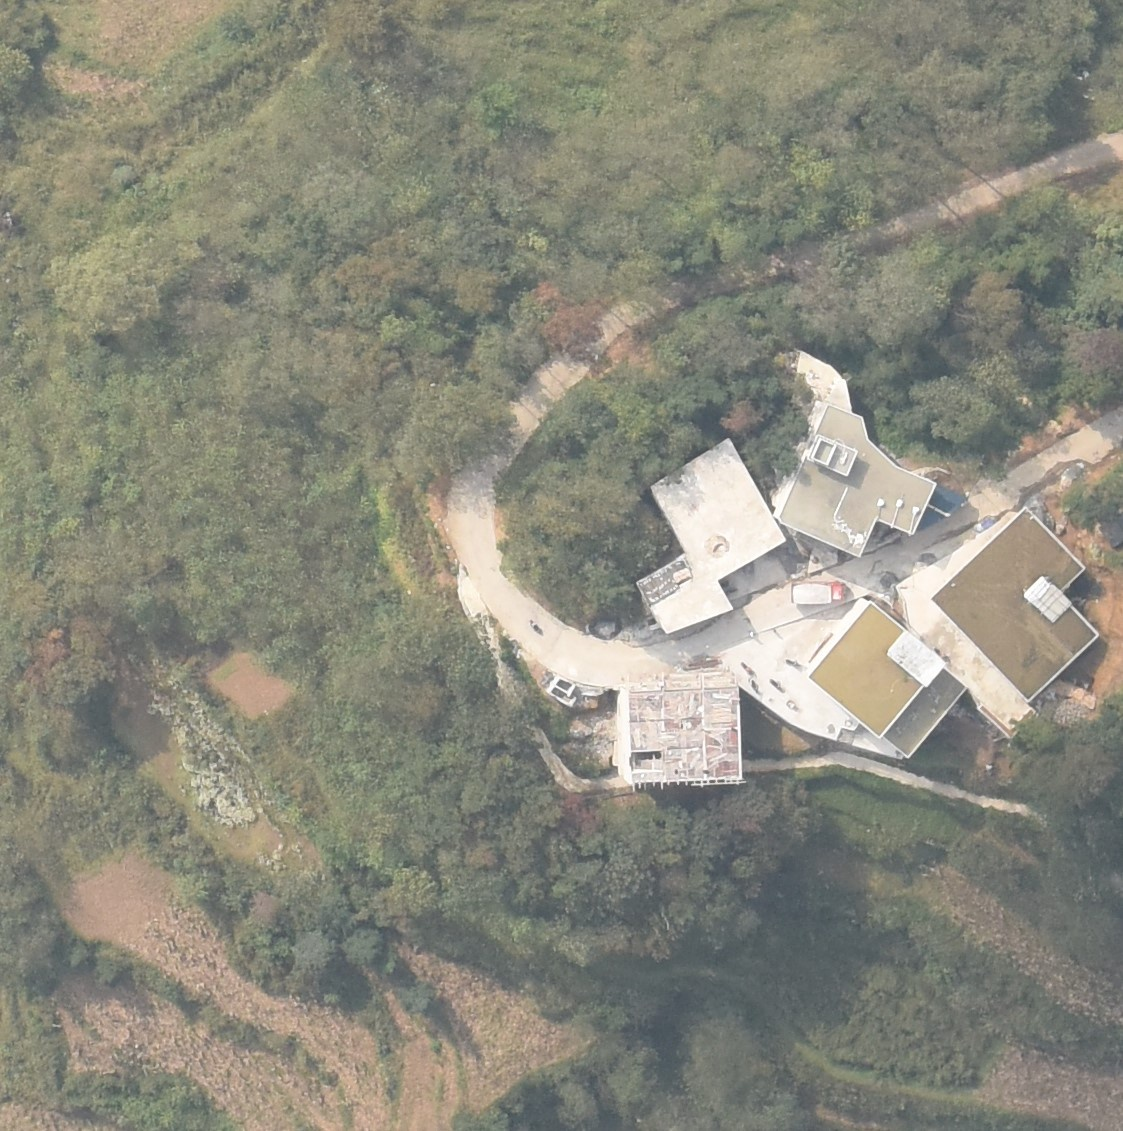building: (931, 508, 1100, 705), (636, 437, 786, 635), (807, 598, 966, 759), (776, 405, 934, 556), (621, 670, 741, 783)
vehicle: (792, 580, 844, 604)
